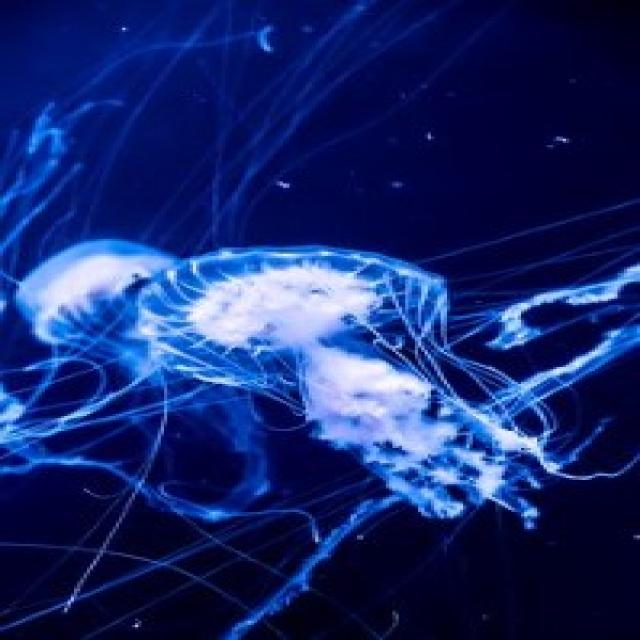Jellyfish: (140, 250, 522, 507), (0, 224, 150, 364)
